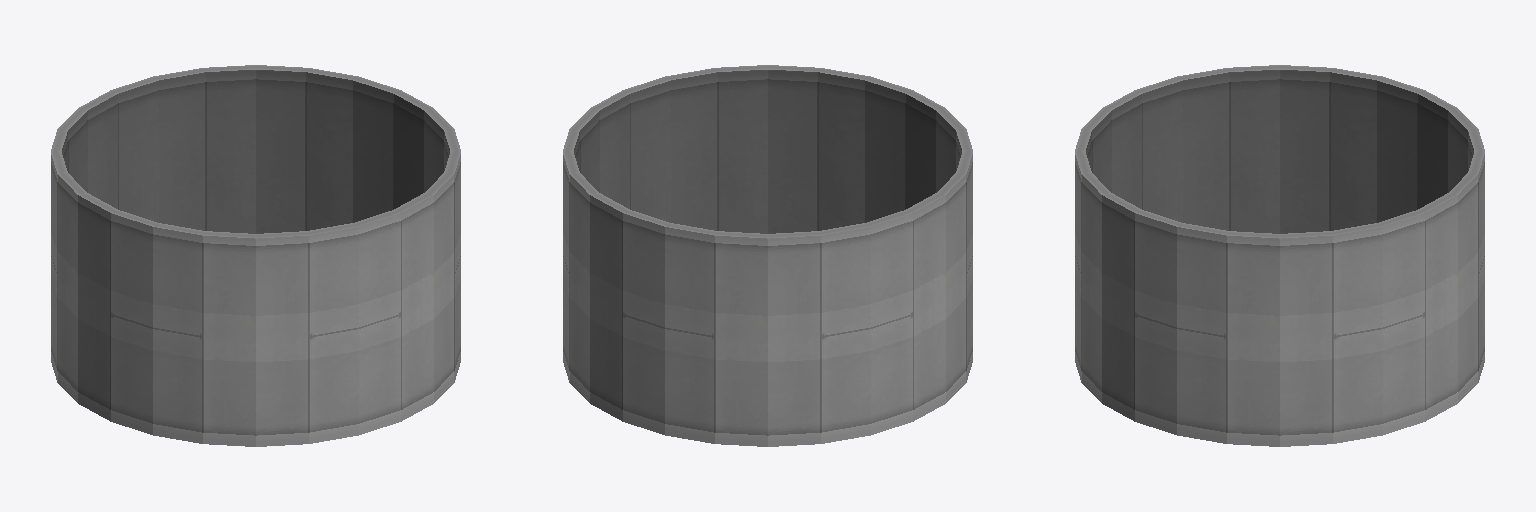
3 views of the same model, side by side, from view 1: azimuth 30°, elevation 25°; view 2: azimuth 150°, elevation 25°; view 3: azimuth 270°, elevation 25° (orthographic).
Visible parts, largest first — view 1: Knight_Motor_B_Fairing; view 2: Knight_Motor_B_Fairing; view 3: Knight_Motor_B_Fairing.
Part boxes in pixels (bbox=[...]): Knight_Motor_B_Fairing: bbox=[51, 65, 460, 446]; Knight_Motor_B_Fairing: bbox=[563, 65, 972, 446]; Knight_Motor_B_Fairing: bbox=[1075, 65, 1484, 446].
Bounding box in the file's own units: 0.9375 × 0.525 × 0.9375.
Materials: 1 (1 with a texture image).